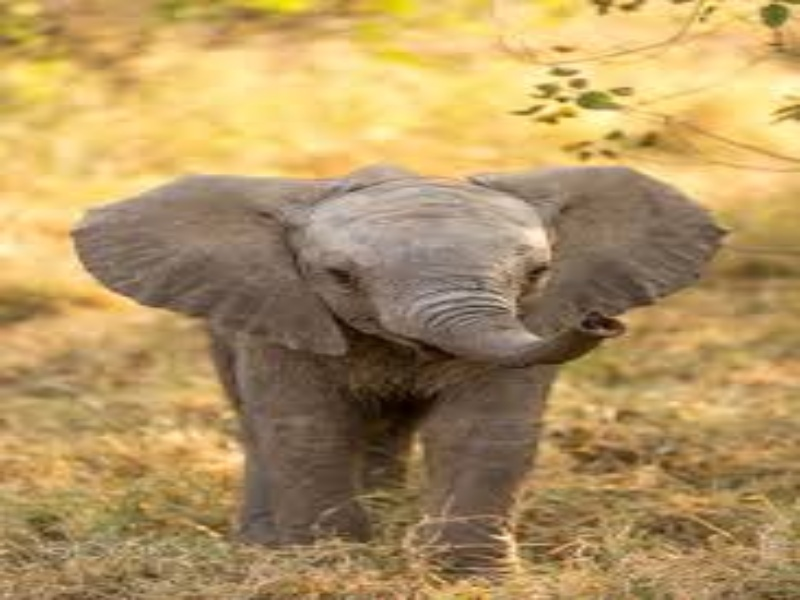elephant: (84, 147, 728, 572)
